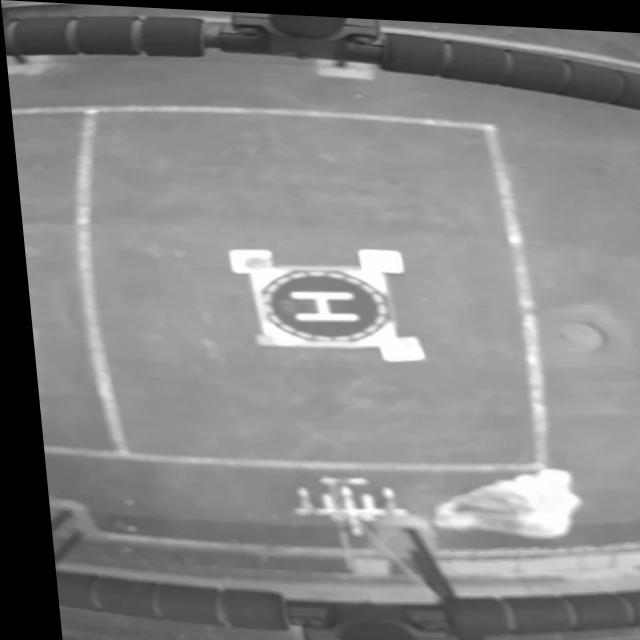Helipad: (281, 288, 354, 319)
